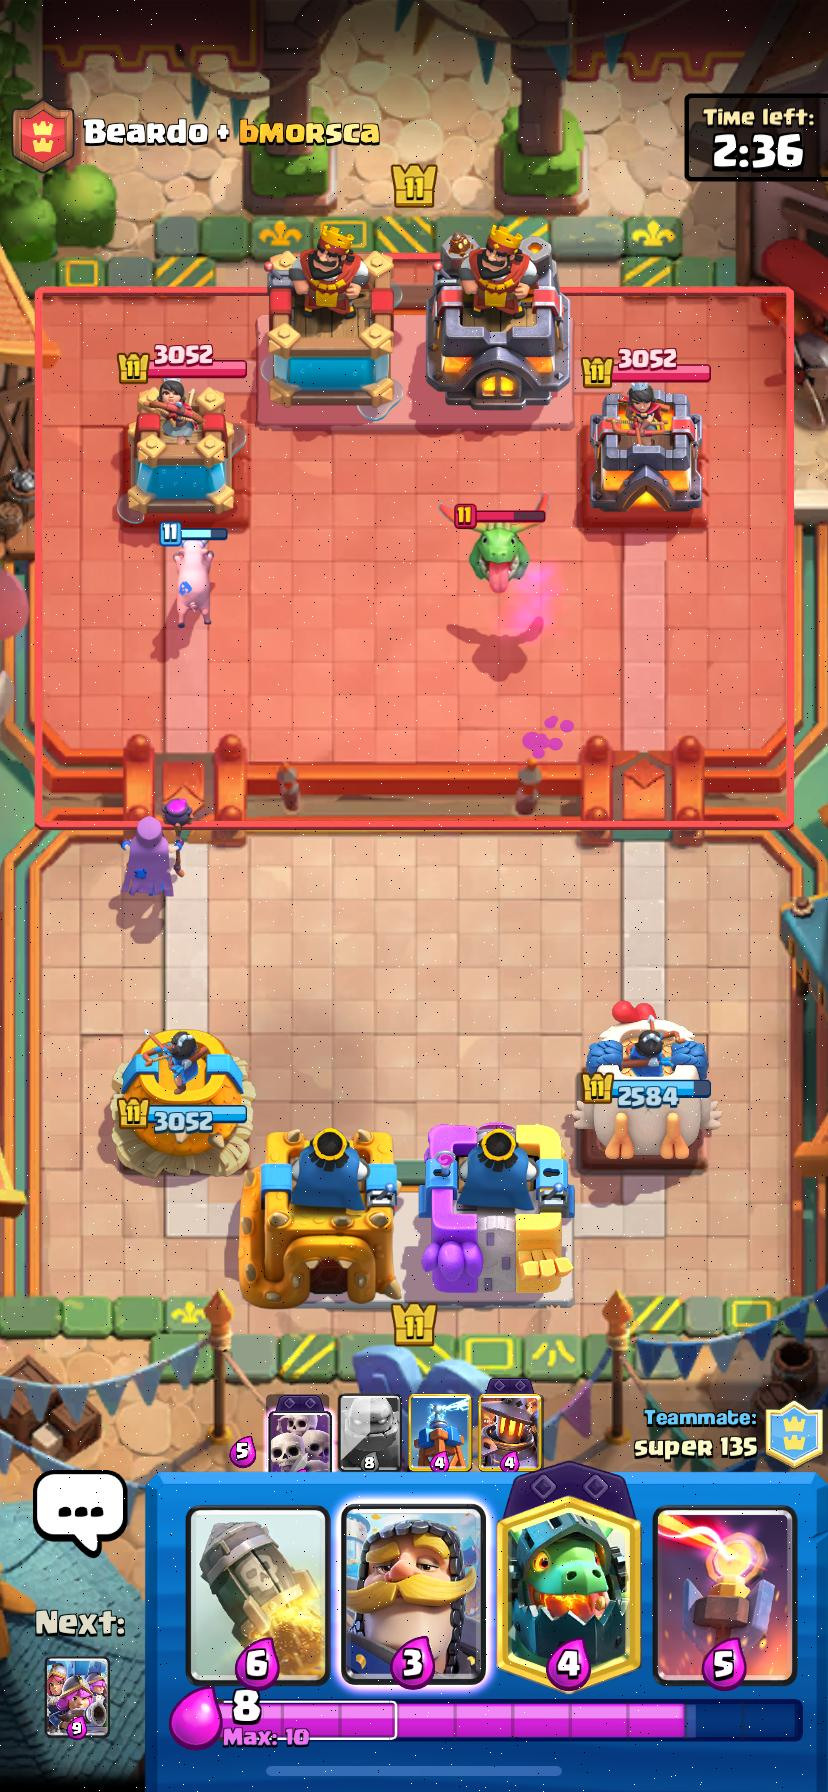EBabyDrag: (441, 493, 547, 592)
EKingTower: (425, 225, 568, 409), (260, 230, 399, 416)
EnemyPrincessTower: (118, 378, 245, 522)
OHog: (165, 533, 224, 631)
OMotherWitch: (121, 816, 173, 896)
OwnKingTower: (240, 1127, 403, 1307), (419, 1123, 573, 1301), (590, 383, 701, 513)
OwnPrincessTower: (576, 1001, 720, 1165), (113, 1031, 253, 1175)
